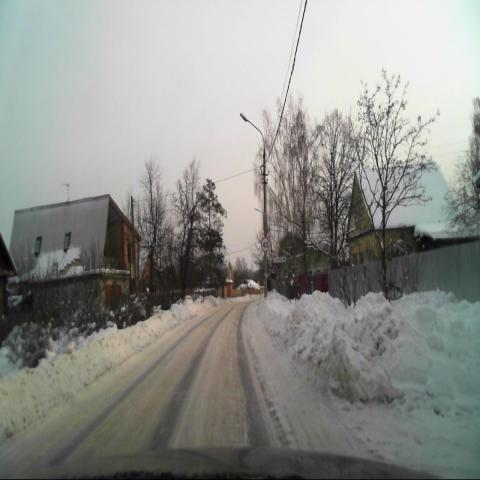3_24: (261, 237, 269, 252)
